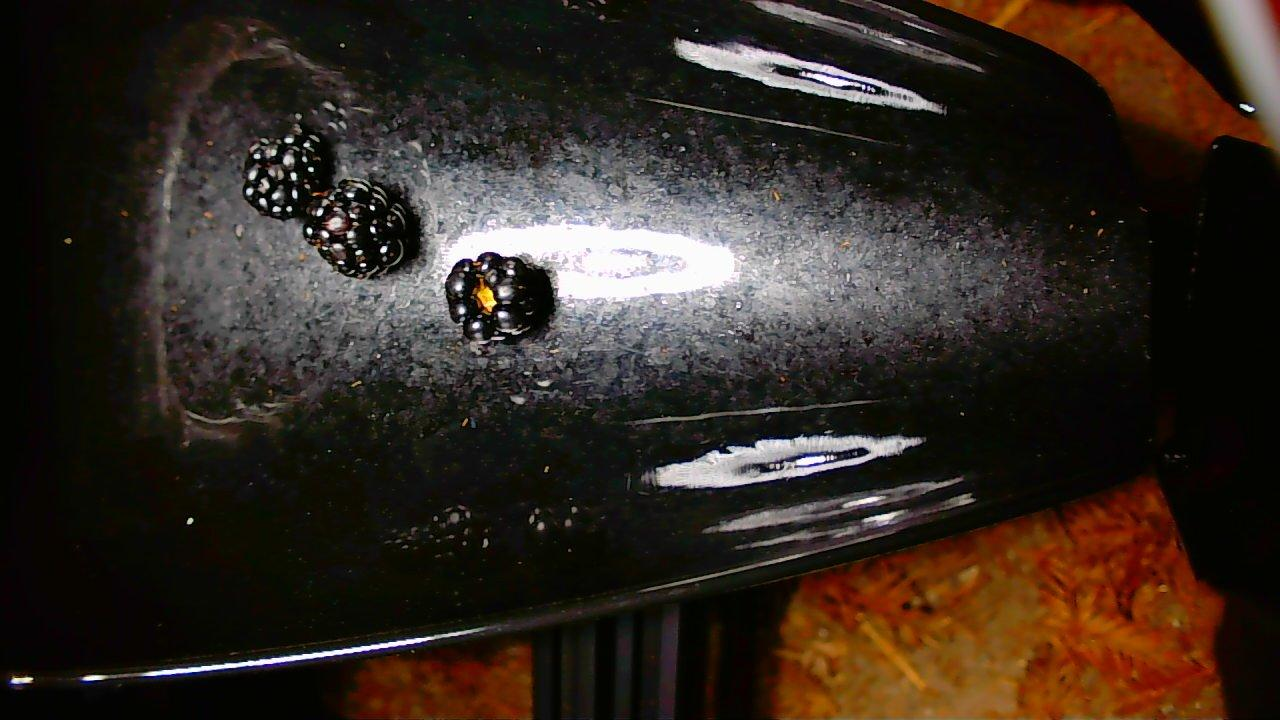berry: (303, 179, 408, 278), (445, 252, 551, 341), (244, 125, 324, 219)
